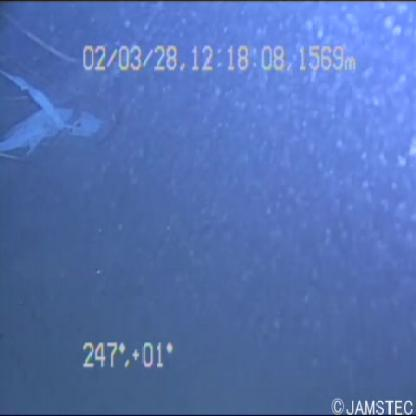Rác: (1, 51, 99, 186)
